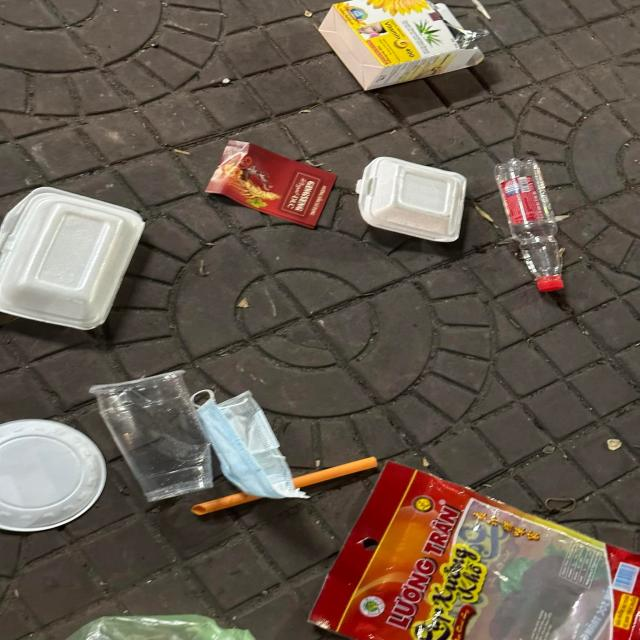bottle: (494, 157, 564, 292)
cardboard box: (319, 0, 485, 90)
drinking straw: (190, 456, 380, 516)
foam box: (0, 186, 146, 330), (356, 156, 468, 242)
mask: (190, 389, 312, 500)
paper: (203, 138, 338, 227)
plastic glass: (88, 369, 214, 501)
plastic holder: (0, 418, 107, 532)
snack package: (309, 459, 640, 640)
